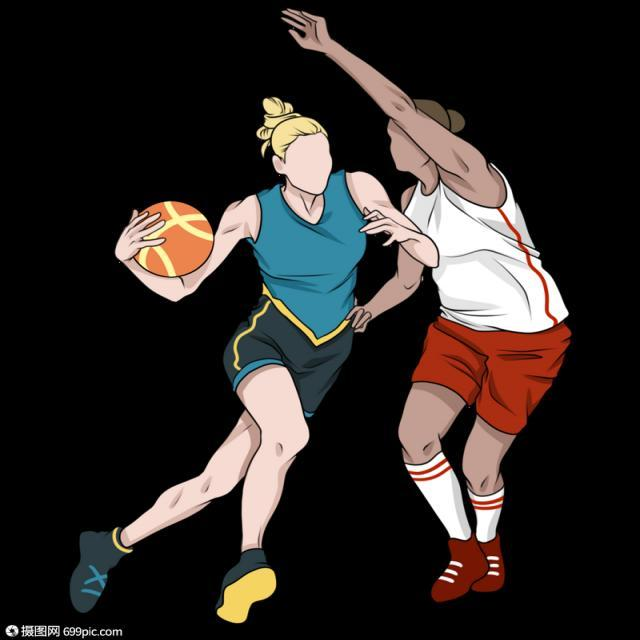rim: (128, 198, 212, 278)
